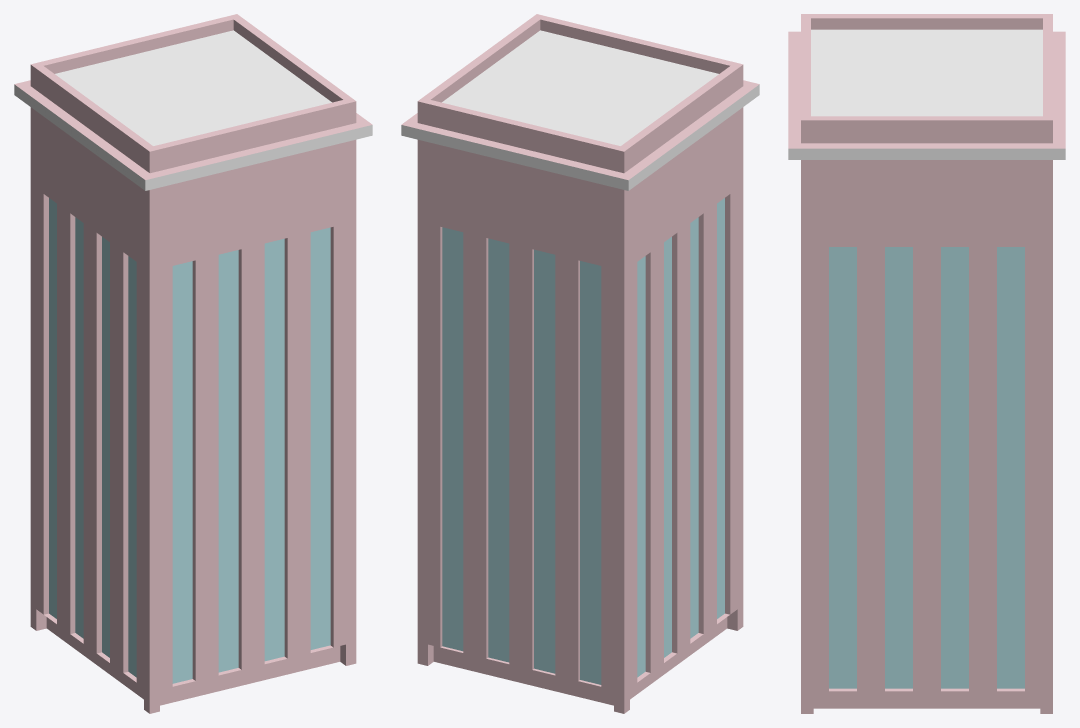
File: pink_building.fbx
3 views of the same model, side by side, from view 1: azimuth 30°, elevation 25°; view 2: azimuth 150°, elevation 25°; view 3: azimuth 270°, elevation 25° (orthographic). The views are drawn at different scales.
Parts seen in each view (by area): view 1: Cube; view 2: Cube; view 3: Cube.
Boxes of the visible parts, x1,y1,x2,y2 form: Cube: [14, 14, 372, 713]; Cube: [401, 14, 759, 713]; Cube: [788, 14, 1065, 713].
Size of the model in its own units: 2200 by 5200 by 2200.
